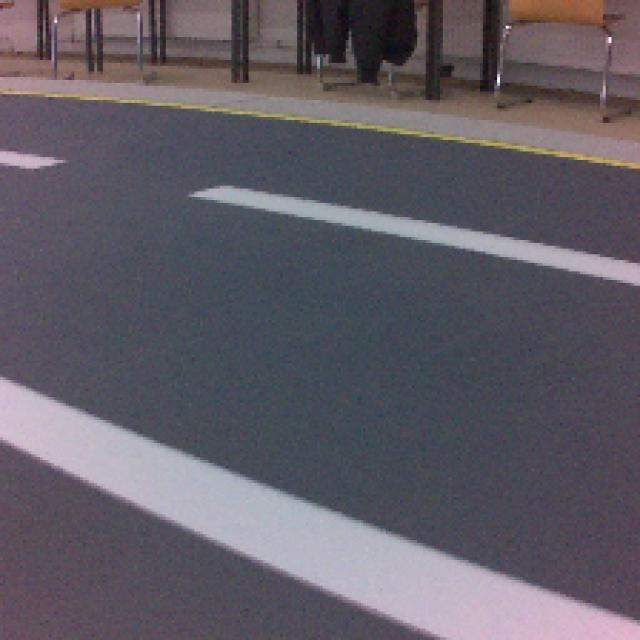Pedestrian crosswalk: (0, 373, 640, 640)
